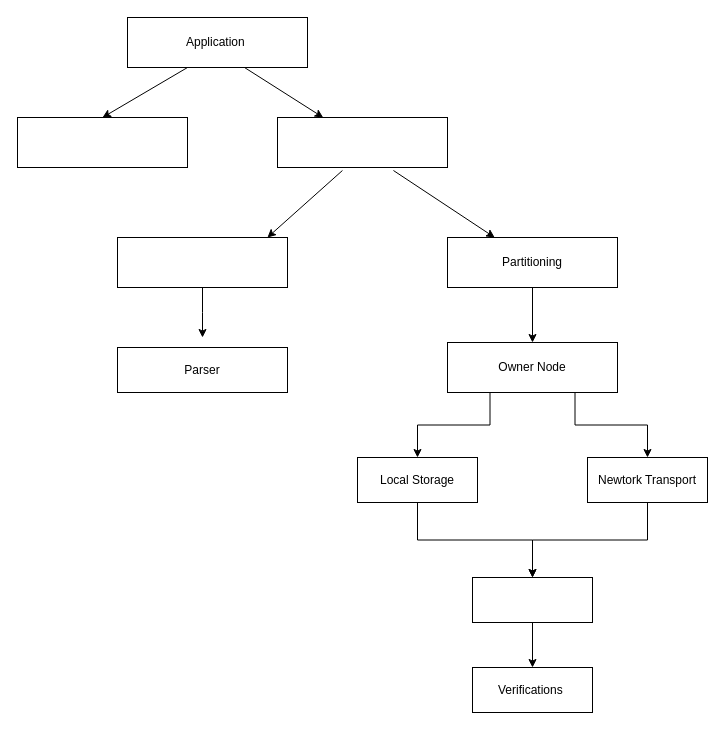
Some shapes in this 725 by 730 pixel diagram are drawn without their labels. Each missing label, with the centre of its shape:
Configuration: the point at 102,142
Data Reader: the point at 202,262
Load Manager: the point at 362,142
Statistics: the point at 532,599
